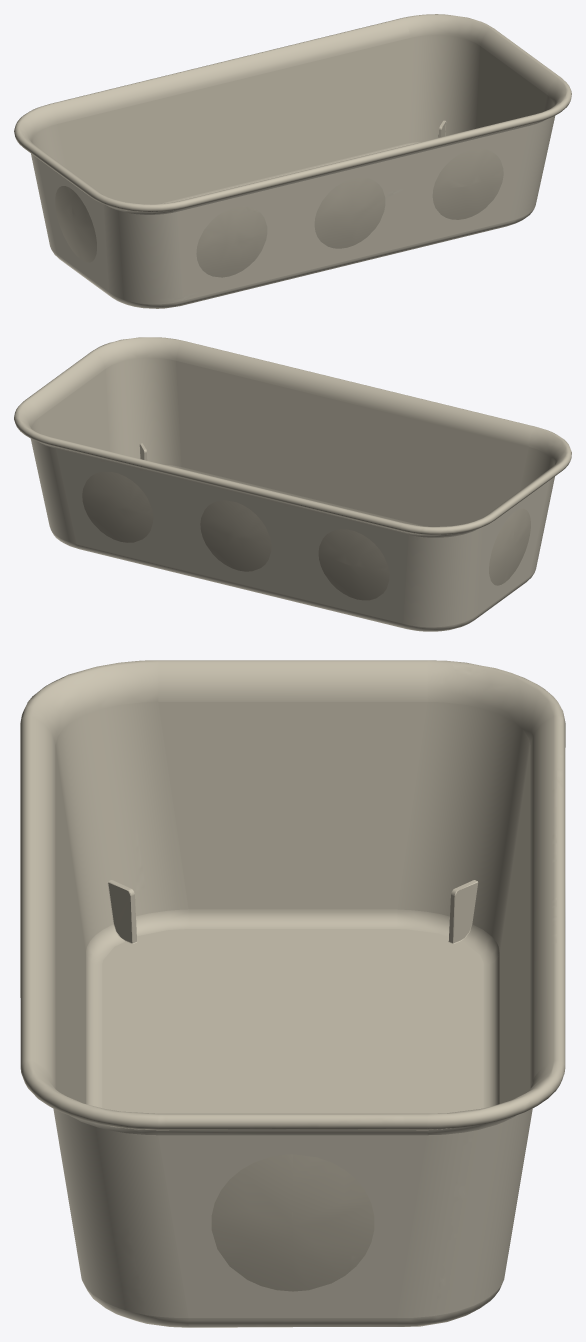
File: nojig_organizer_70457487.glb
The picture shows the model from 3 angles, top to bottom: view 1: azimuth 30°, elevation 25°; view 2: azimuth 150°, elevation 25°; view 3: azimuth 270°, elevation 25°; orthographic projection. The views are drawn at different scales.
Visible parts, largest first — view 1: nojig_organizer_70457487; view 2: nojig_organizer_70457487; view 3: nojig_organizer_70457487.
Part boxes in pixels (x1=…): nojig_organizer_70457487: x1=14, y1=14, x2=571, y2=308; nojig_organizer_70457487: x1=14, y1=337, x2=571, y2=631; nojig_organizer_70457487: x1=20, y1=660, x2=565, y2=1327.
Bounding box in the file's own units: 0.1999 × 0.05 × 0.0999.
Materials: 1 (1 with a texture image).
